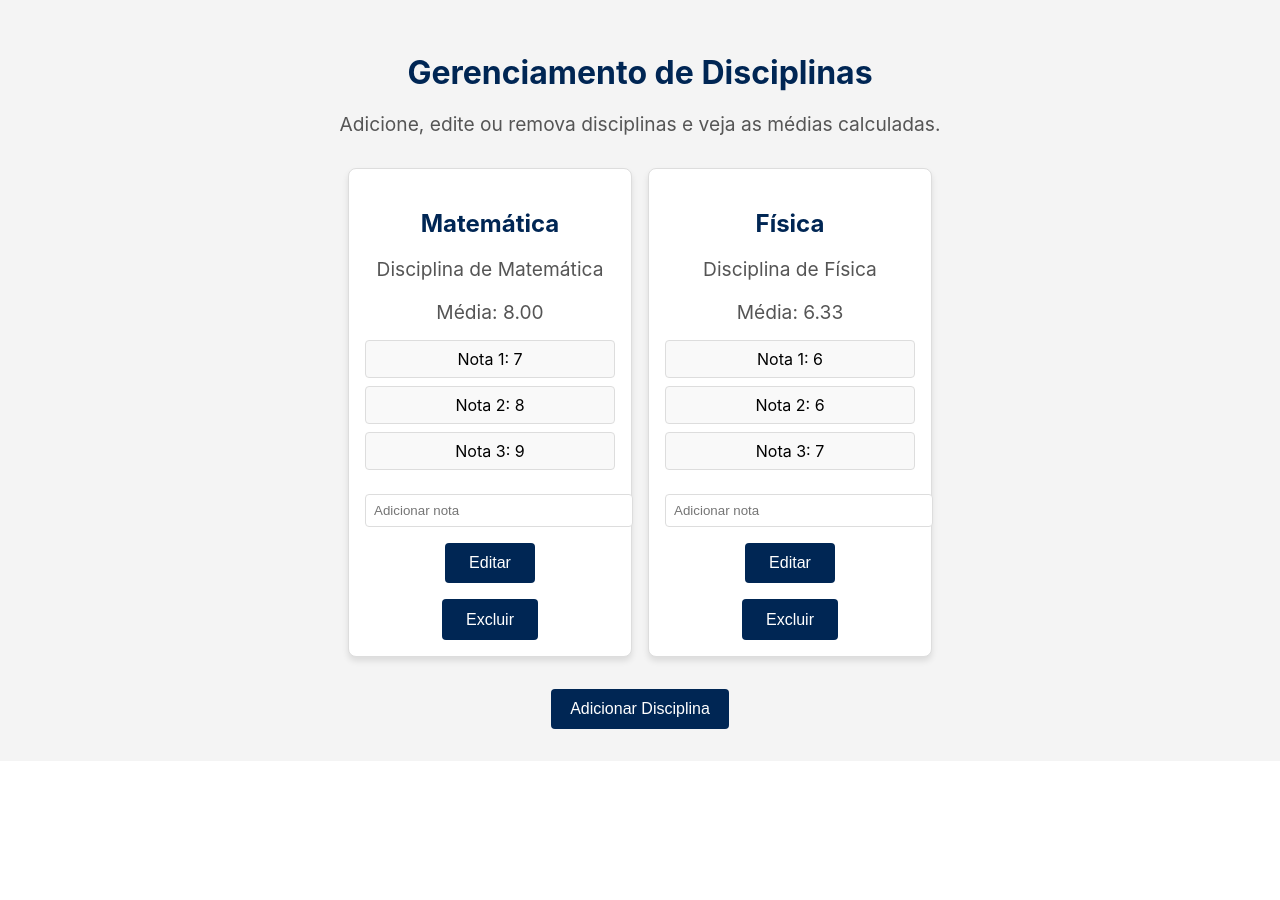
Scenario: Adiciona uma nova disciplina corretamente
Note: Simula o clique no botão de adicionar disciplina
Click the button "Adicionar Disciplina".
click(640, 709)  # box x1=551 y1=689 x2=729 y2=729
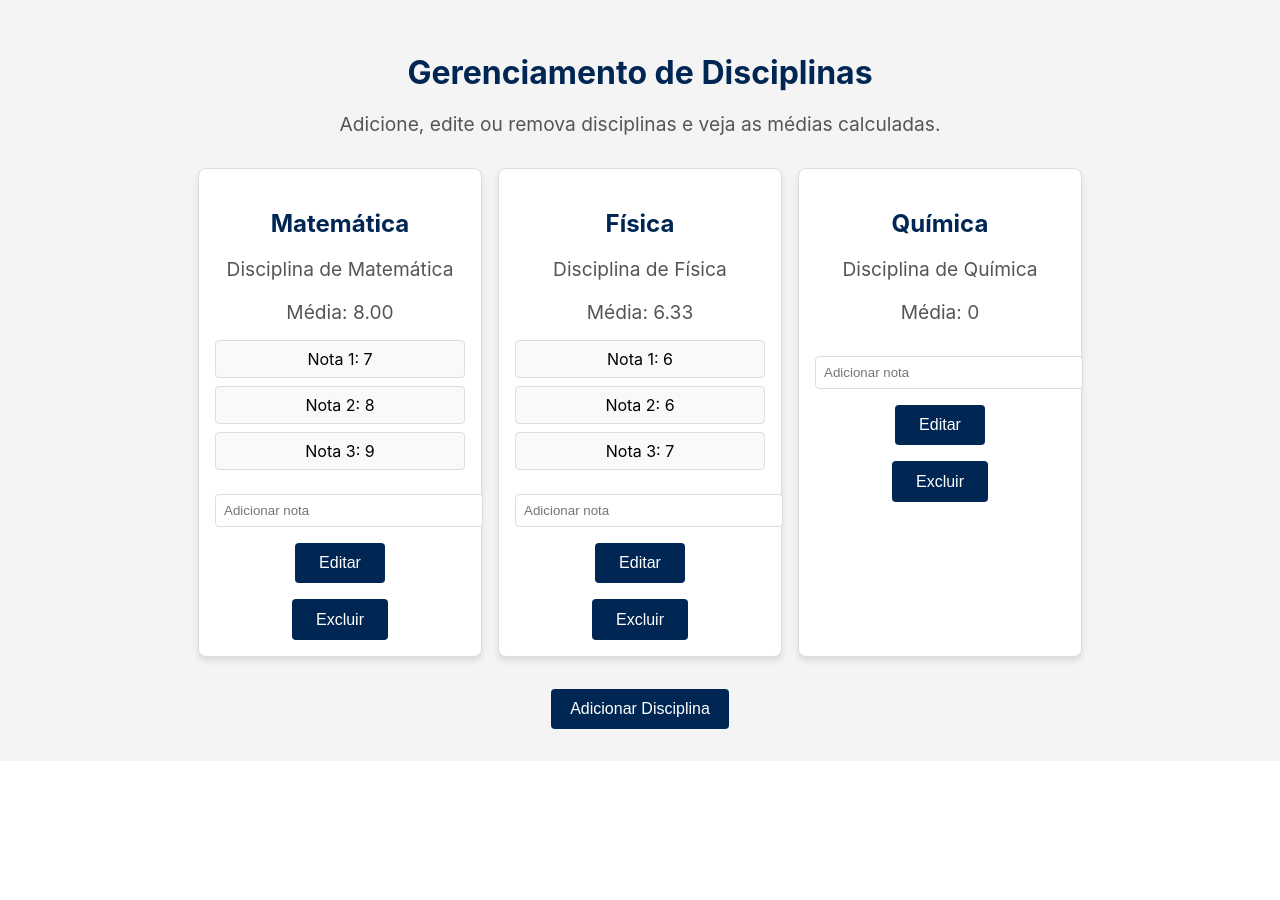
expect the heading "Química" is shown: met, box x1=892 y1=209 x2=988 y2=238
